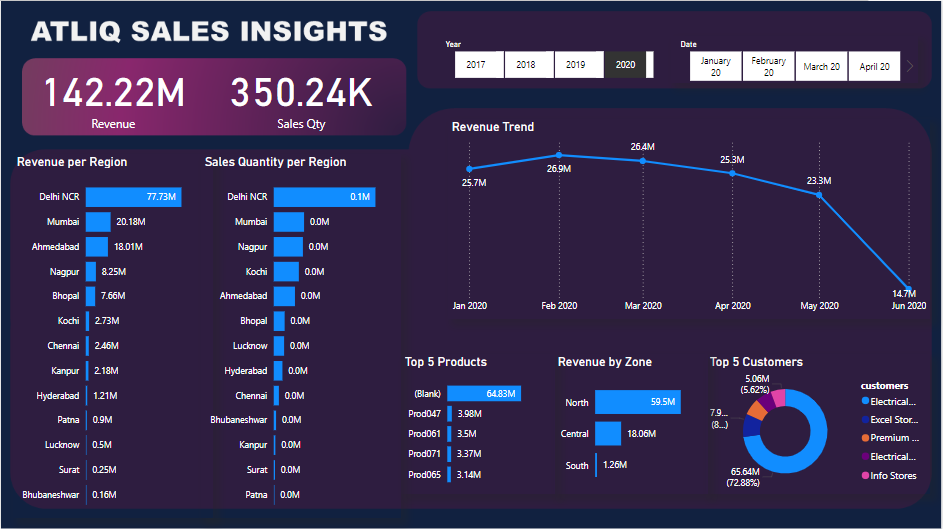

Layout of this report page (visuals, bound fields, positions):
{"tool":"powerbi","page":{"name":"Summary Insights","canvas":[1280,720],"ordinal":0},"visuals":[{"type":"card","fields":{"Values":["Base Measures.Revenue"]},"box":[32,64,240,128],"z":0},{"type":"card","fields":{"Values":["Base Measures.Sales Qty"]},"box":[288,64,240,128],"z":1000},{"type":"barChart","title":"Revenue per Region","fields":{"Y":["Base Measures.Revenue"],"Category":["sales markets.markets_name"]},"box":[16,208,272,496],"z":2000},{"type":"barChart","title":"Sales Quantity per Region","fields":{"Category":["sales markets.markets_name"],"Y":["Base Measures.Sales Qty"]},"box":[272,208,272,496],"z":3000},{"type":"slicer","fields":{"Values":["sales date.year"]},"box":[592,48,320,64],"z":4000},{"type":"slicer","fields":{"Values":["sales date.cy_date"]},"box":[912,48,336,64],"z":5000},{"type":"donutChart","title":"Top 5 Customers","fields":{"Category":["sales customers.custmer_name"],"Y":["Base Measures.Revenue"]},"box":[959.5,480.5,304.7,191.3],"z":6000},{"type":"barChart","title":"Top 5 Products","fields":{"Y":["Base Measures.Revenue"],"Category":["sales products.product_code"]},"box":[544.3,480.5,209.8,191.3],"z":7000},{"type":"lineChart","title":"Revenue Trend","fields":{"Category":["sales date.cy_date"],"Y":["Base Measures.Revenue"]},"box":[608,160,656,272],"z":8000},{"type":"barChart","title":"Revenue by Zone","fields":{"Y":["Base Measures.Revenue"],"Category":["sales markets.zone"]},"box":[752.6,480.5,209.8,191.3],"z":8001}]}

Visuals, with their boxes in screenshot pixels (x1, y1, x2, y2), scaled from the page's 1280x720 canvas onto the 943x529 screenshot:
card - Base Measures.Revenue: x1=24 y1=47 x2=200 y2=141
card - Base Measures.Sales Qty: x1=212 y1=47 x2=389 y2=141
"Revenue per Region" barChart: x1=12 y1=153 x2=212 y2=517
"Sales Quantity per Region" barChart: x1=200 y1=153 x2=401 y2=517
slicer - sales date.year: x1=436 y1=35 x2=672 y2=82
slicer - sales date.cy_date: x1=672 y1=35 x2=919 y2=82
"Top 5 Customers" donutChart: x1=707 y1=353 x2=931 y2=494
"Top 5 Products" barChart: x1=401 y1=353 x2=556 y2=494
"Revenue Trend" lineChart: x1=448 y1=118 x2=931 y2=317
"Revenue by Zone" barChart: x1=554 y1=353 x2=709 y2=494
